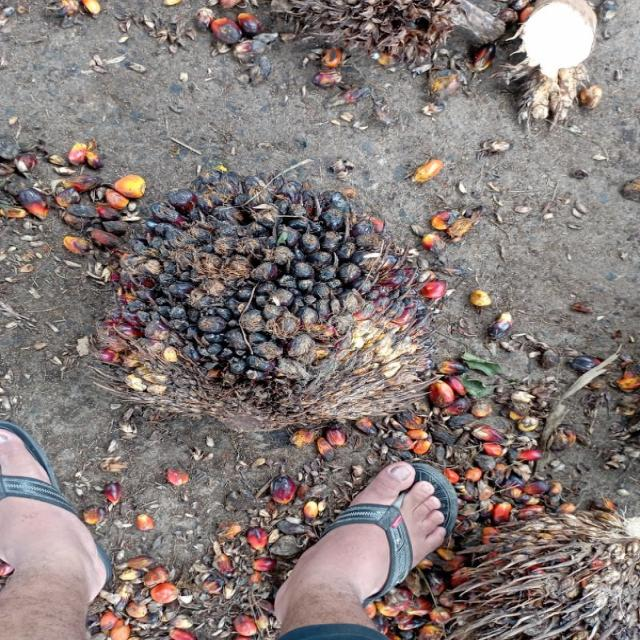fraksi 00: (64, 135, 486, 454)
